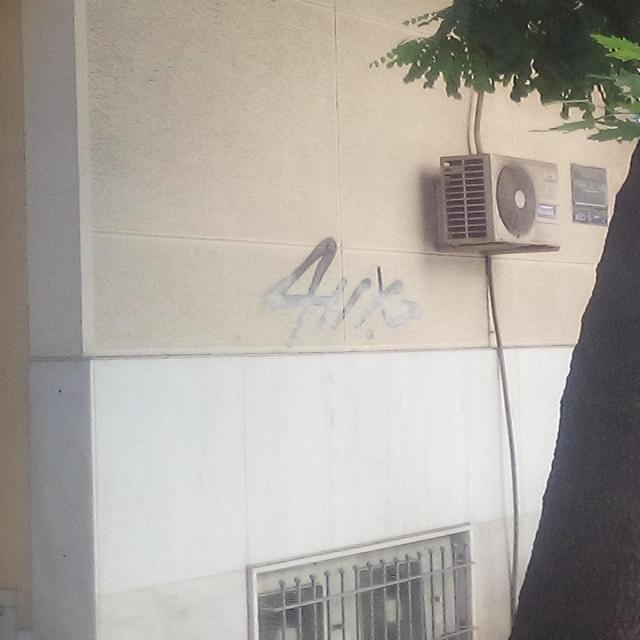nonspitting: (272, 238, 422, 346)
